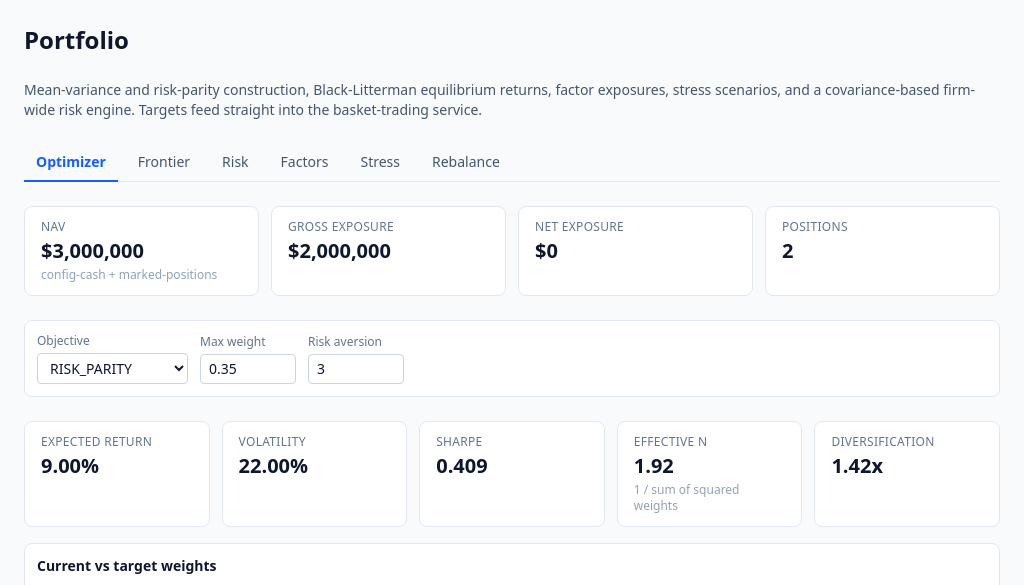
Test: Portfolio page › flags a stress scenario that breaches the limit
The image size is (1024, 585).
Click the button with test id "tab-stress" at x=380, y=163, box top-left (348, 144), bottom-right (412, 182)
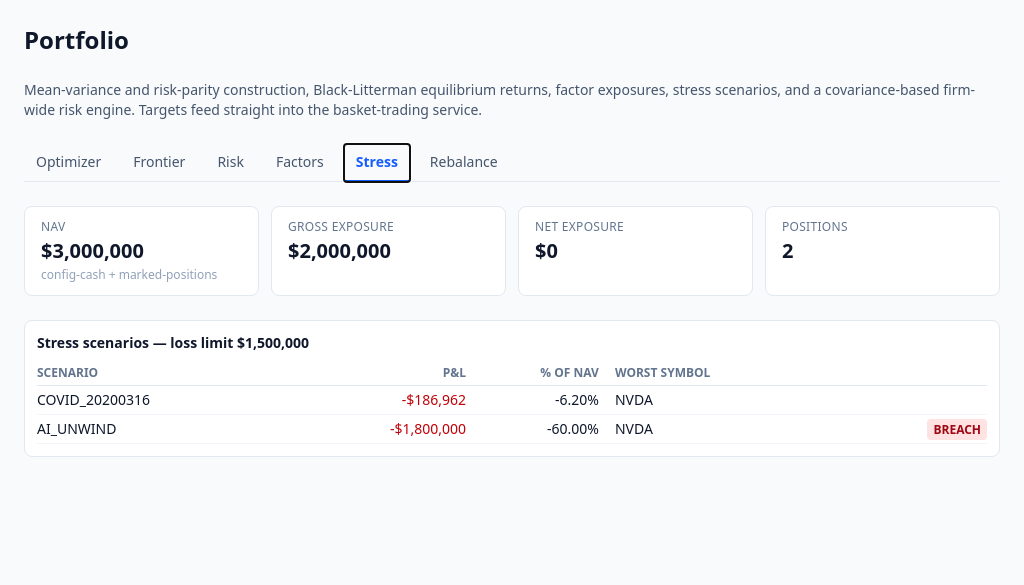
Now the text "AI_UNWIND" is shown, box top-left (37, 419), bottom-right (116, 438)
Now the text "BREACH" is shown, box top-left (927, 419), bottom-right (987, 440)
